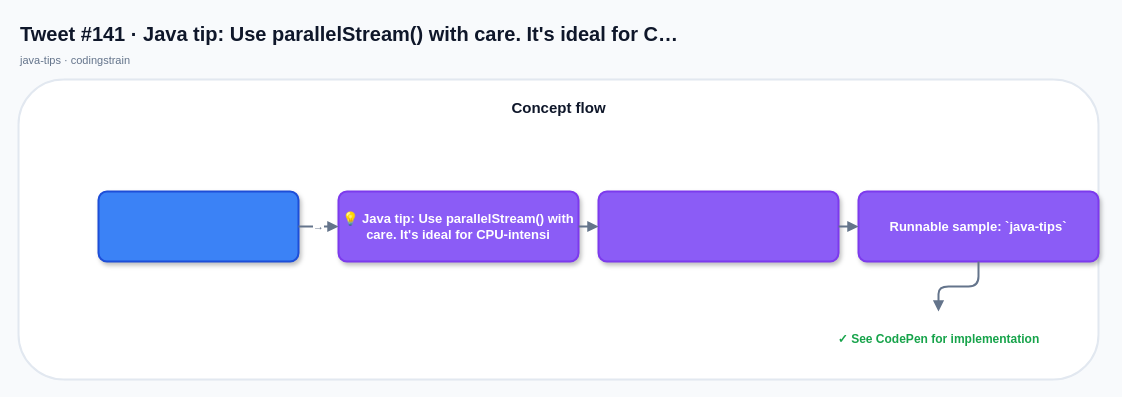
Image size: 1122x397. Some labels were removed from this diagram. Each missing label, with the centre of its shape:
"#Java #JavaStreams" goes at (x=719, y=227).
"Problem / context" goes at (x=199, y=227).
